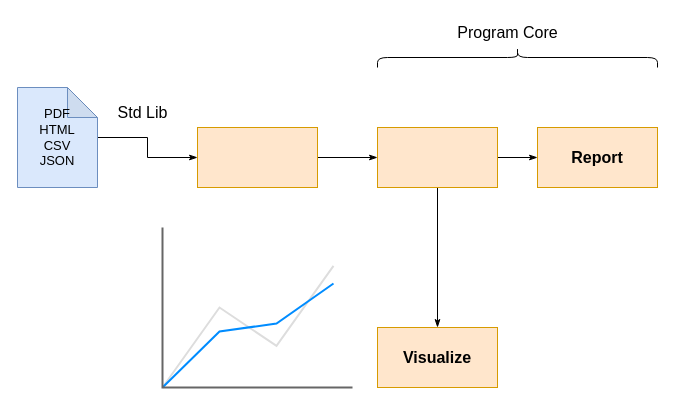
Some shapes in this 675 by 405 pixel diagram are drawn without their labels. Here are the shapes that lost their labels. From the top down, the centre of each, then its label:
At pixel 257 157: "Load".
At pixel 437 157: "Analysis".
